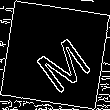M_NW: (22, 21, 88, 89)
